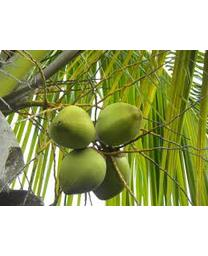coconut: (57, 145, 104, 196), (96, 102, 144, 147), (49, 105, 96, 150), (92, 145, 129, 200)
